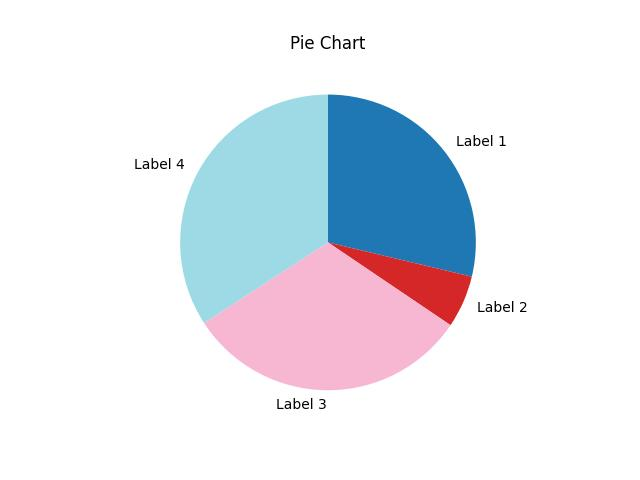sector: (203, 243, 450, 389), (178, 95, 330, 325), (329, 95, 477, 277), (328, 241, 473, 325)
